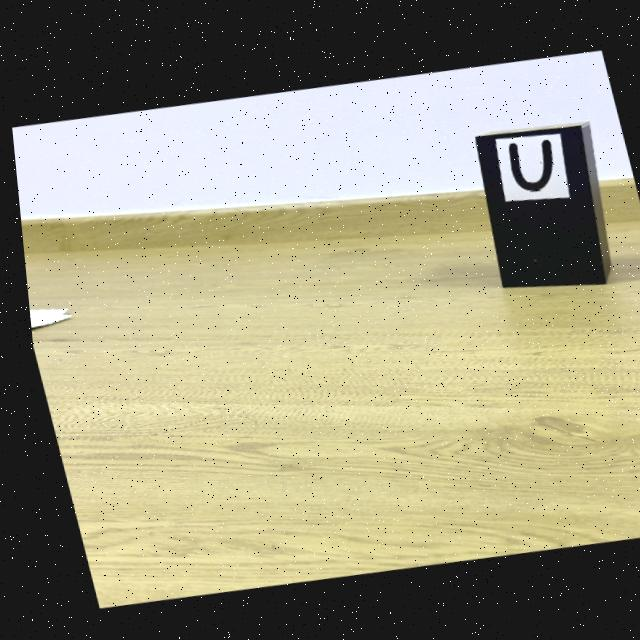U: (506, 137, 551, 188)
